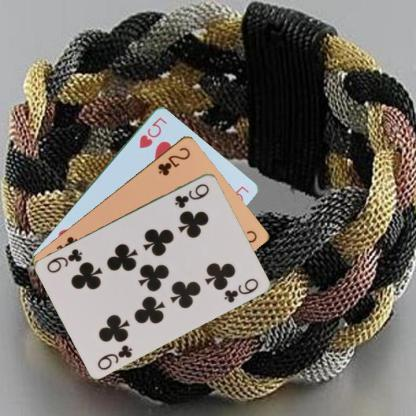2c: (155, 144, 192, 177)
5h: (136, 113, 168, 150)
9c: (95, 341, 134, 371), (172, 180, 211, 209)
